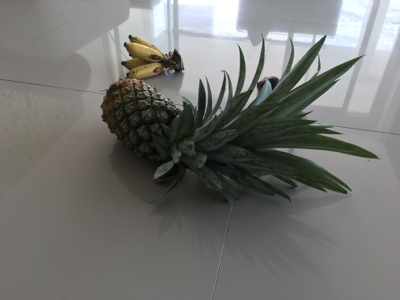banana: (120, 34, 183, 77)
pineapple: (103, 35, 380, 204)
